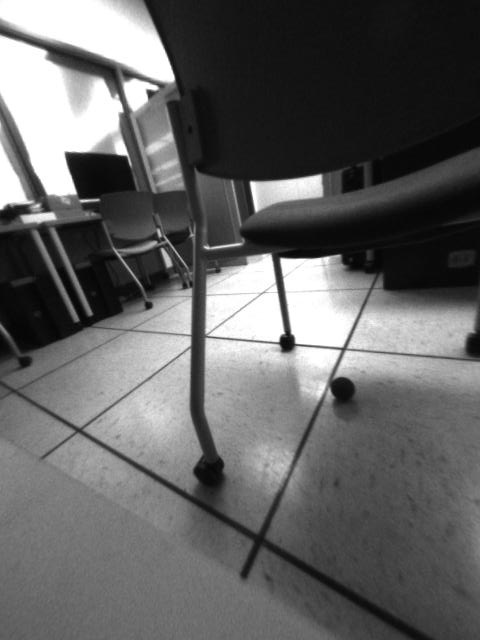dogtoy: (322, 369, 367, 409)
